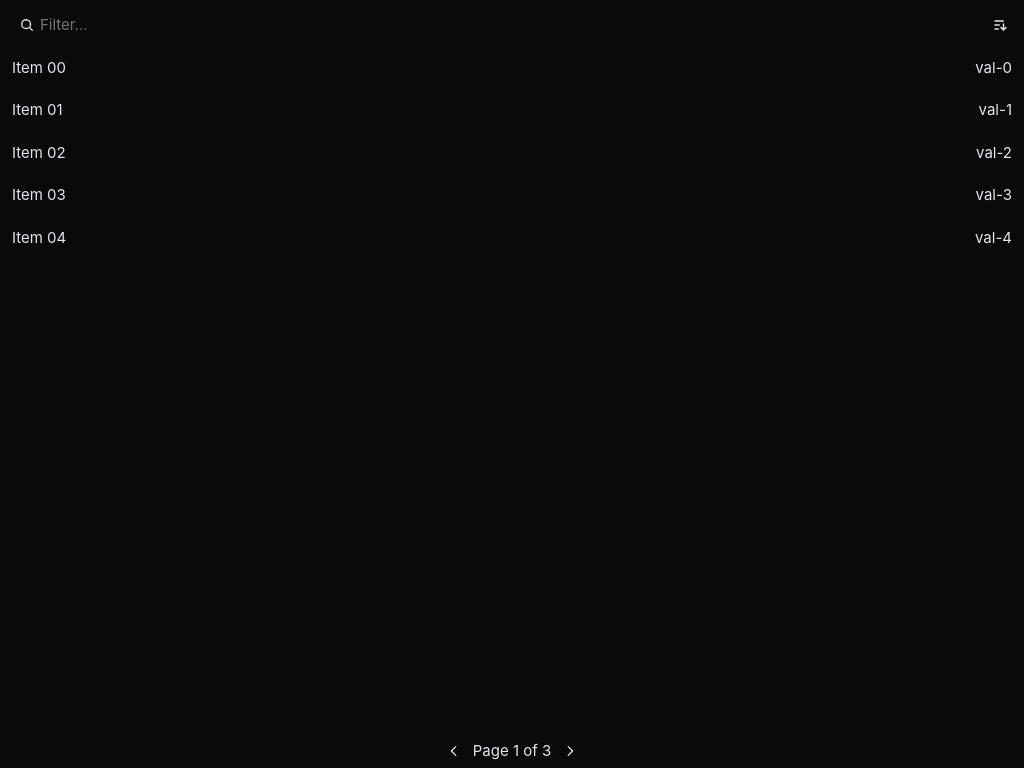
Test: ListView › pagination buttons disable at boundaries
The width and height of the screenshot is (1024, 768).
Expected: the button named "previous" is disabled, x1=443 y1=740 x2=465 y2=762
# Go to last page
Click the button named "next": (570, 751) x1=559 y1=740 x2=581 y2=762
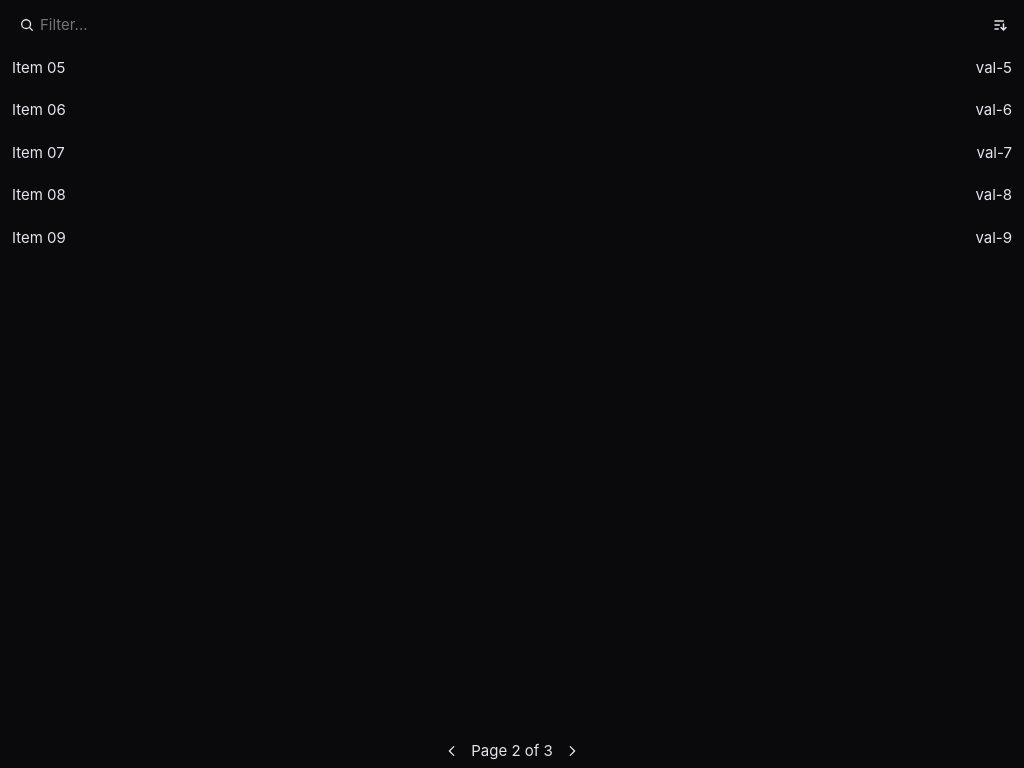
Click the button named "next": (572, 751) x1=561 y1=740 x2=583 y2=762
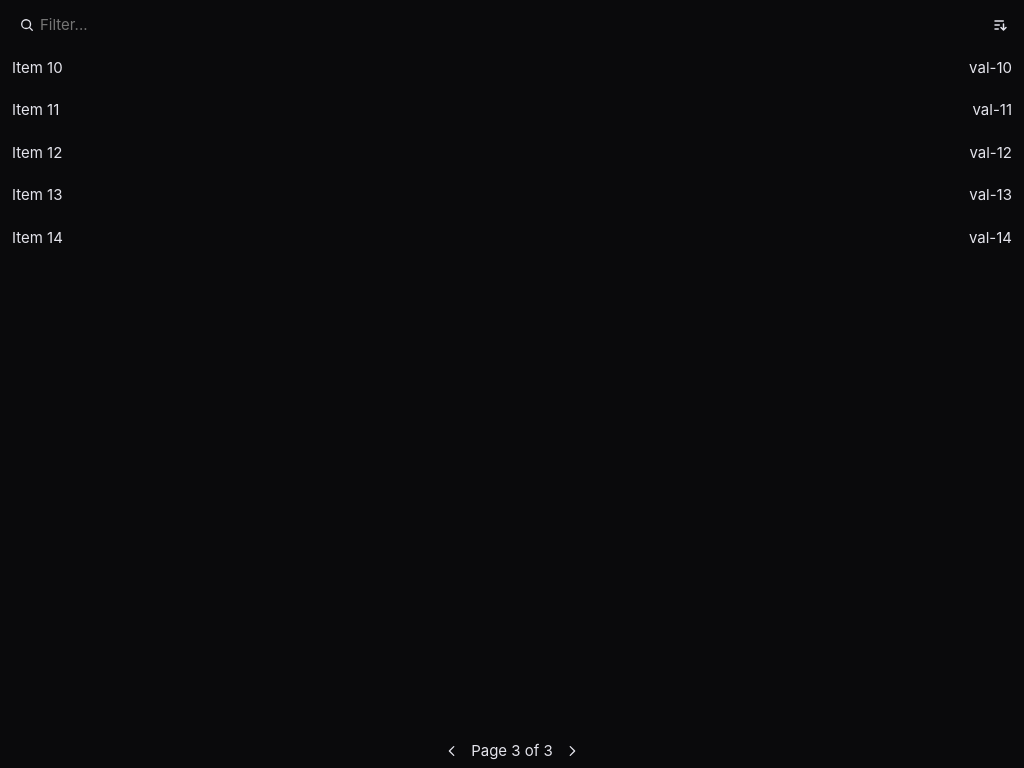
Result: the button named "previous" is enabled at x1=441 y1=740 x2=463 y2=762
Result: the text "Page 3 of 3" is shown at x1=471 y1=740 x2=553 y2=762
